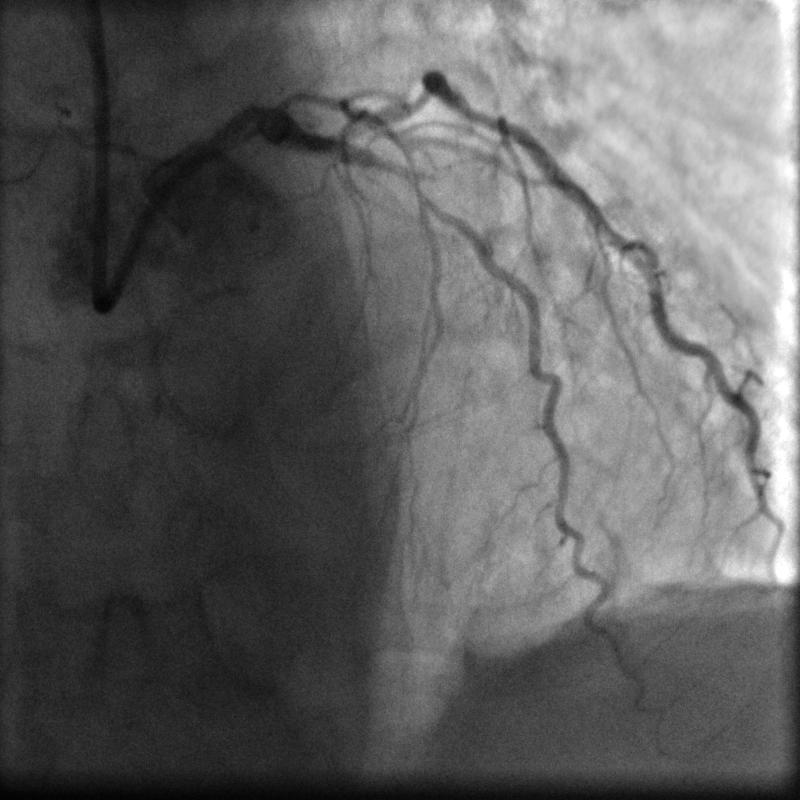Stenosis: (374, 148, 432, 207)
